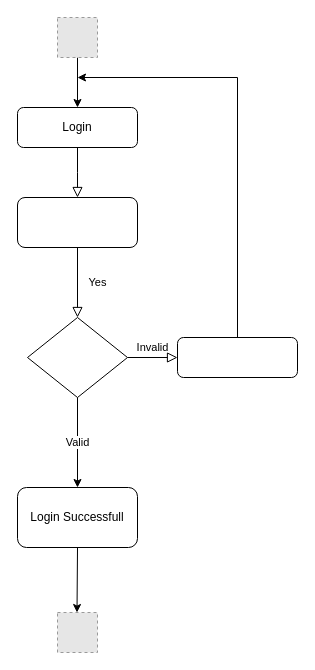
Image size: 315x670. Some labels were removed from this diagram. Grey dashed boxes stand in for pictures. The centre of each missing label's shape, as x and y in pixels:
Email ID & Password: the point at 77,222
Wrong Credentials: the point at 237,357
